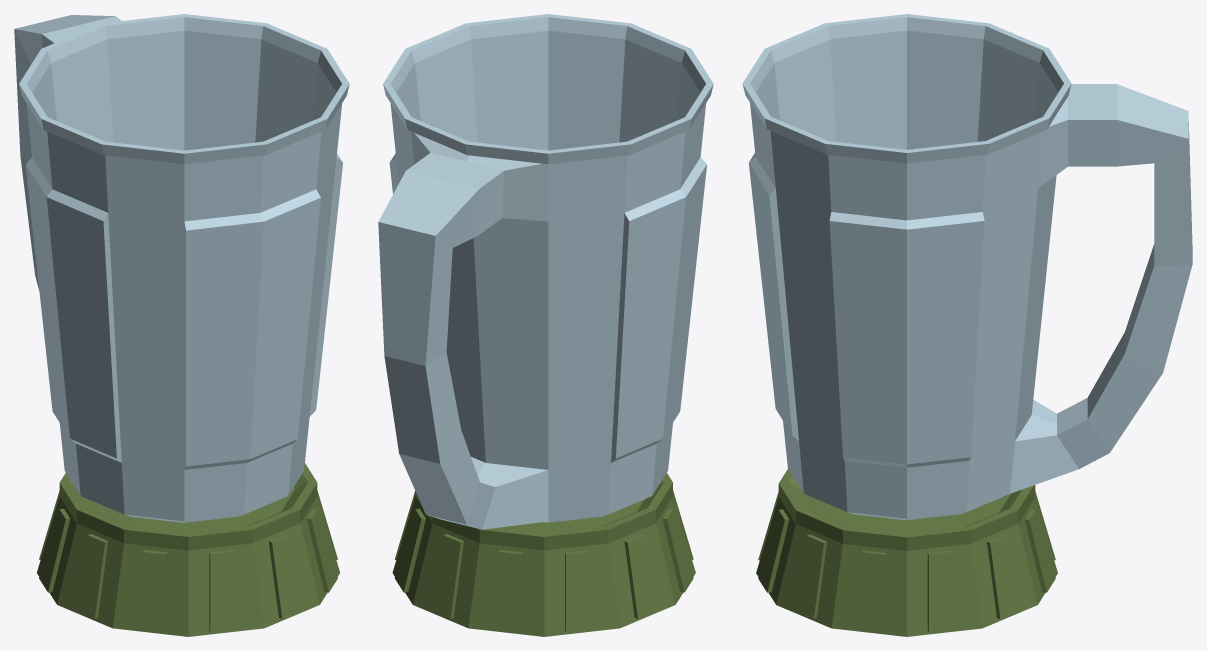
Rendered from capacity_01_B.gltf.
3 views of the same model, side by side, from view 1: azimuth 30°, elevation 25°; view 2: azimuth 150°, elevation 25°; view 3: azimuth 270°, elevation 25° (orthographic).
Parts seen in each view (by area): view 1: capacity_01_B, blender_01_B; view 2: capacity_01_B, blender_01_B; view 3: capacity_01_B, blender_01_B.
Part boxes in pixels (x1,y1,x2,y2): capacity_01_B: [14, 14, 349, 522]; blender_01_B: [37, 463, 339, 636]; capacity_01_B: [378, 14, 713, 529]; blender_01_B: [392, 473, 695, 636]; capacity_01_B: [742, 14, 1192, 520]; blender_01_B: [756, 469, 1057, 636].
Size of the model in its own units: 0.1366 by 0.2239 by 0.1868.
1 material, 1 textured.
